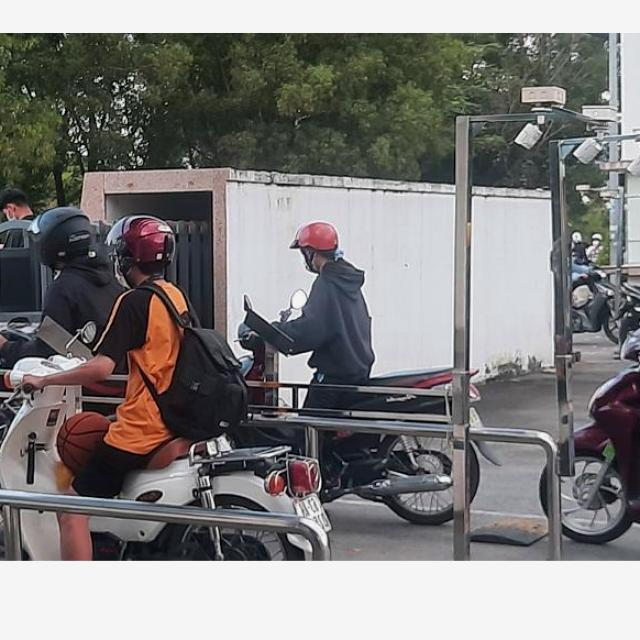Helmet: (30, 206, 93, 270), (112, 214, 174, 276), (293, 222, 338, 273)
